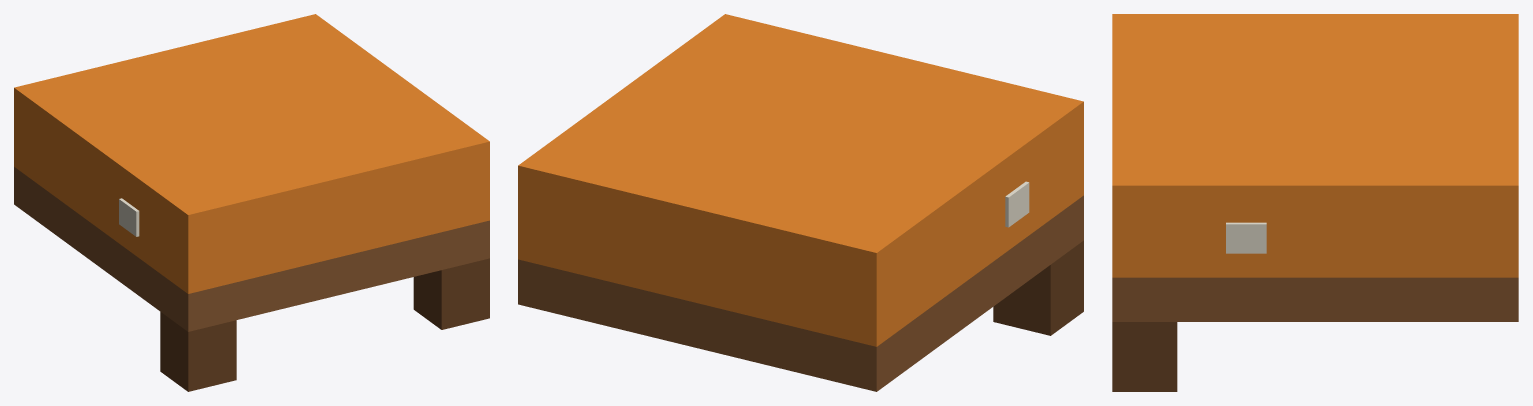
File: bed_orange_foot.glb
3 renders of one model, left to right at view 1: azimuth 30°, elevation 25°; view 2: azimuth 150°, elevation 25°; view 3: azimuth 270°, elevation 25°, orthographic. The views are drawn at different scales.
Visible parts, largest first — view 1: body; view 2: body; view 3: body.
Part boxes in pixels (x1,y1,x2,y2): body: (14,14,489,391); body: (518,14,1083,391); body: (1112,14,1518,391).
Bounding box in the file's own units: 1.02 × 0.56 × 1.
